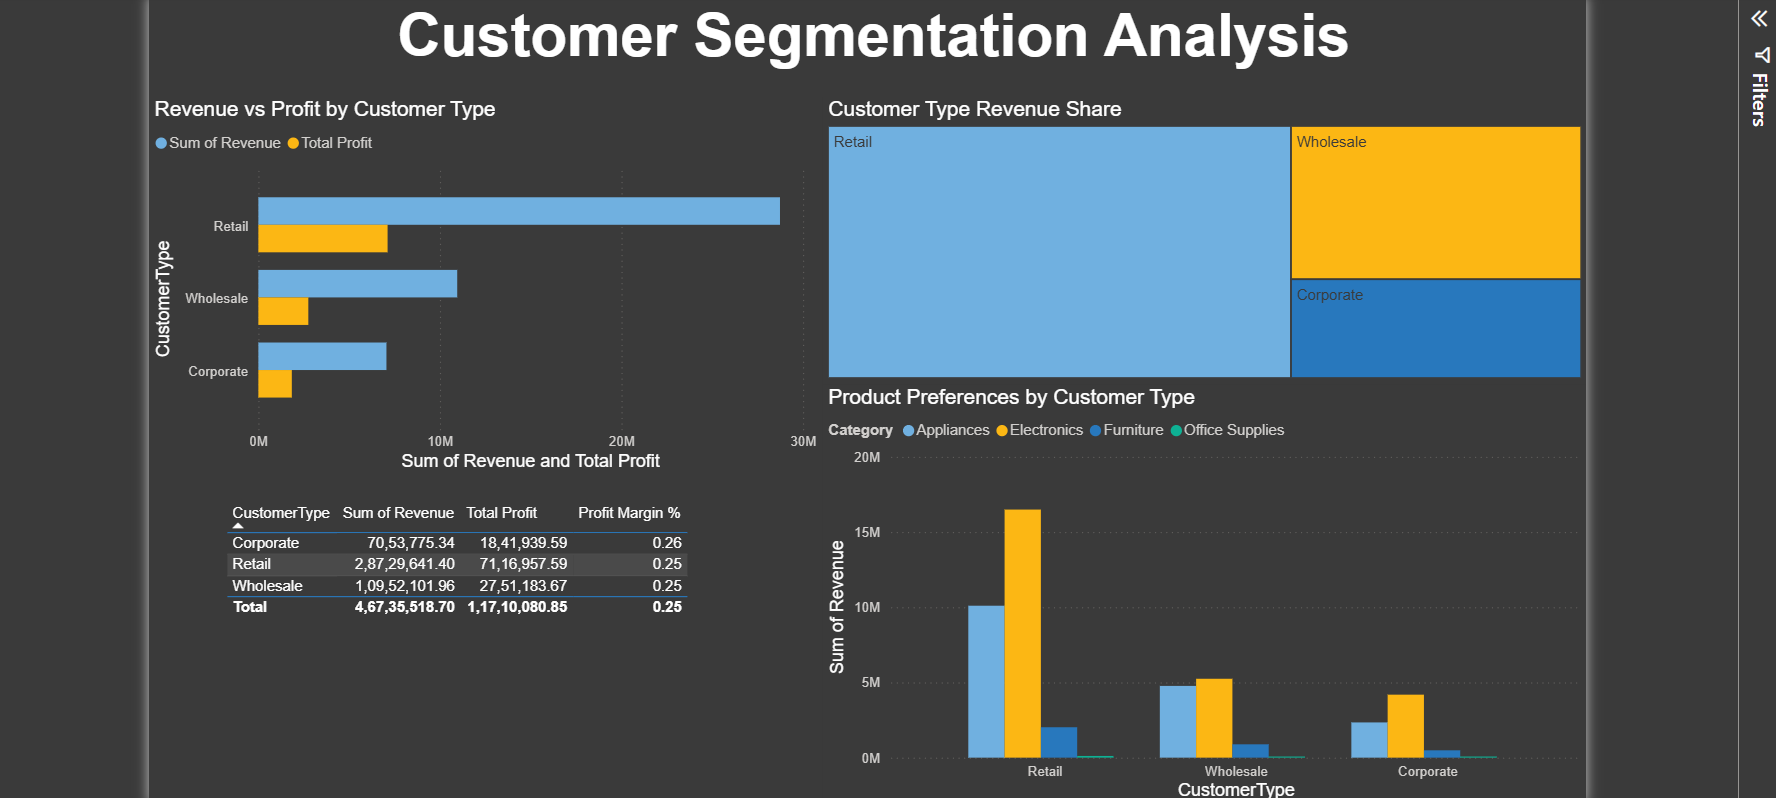

What the dashboard file says about the page in this screenshot:
{"tool":"powerbi","page":{"name":"Page 2","canvas":[1280,720],"ordinal":1},"visuals":[{"type":"textbox","box":[9.6,0,1270.7,90.6],"z":0},{"type":"clusteredBarChart","title":"Revenue vs Profit by Customer Type","fields":{"Category":["regional_sales_dataset.CustomerType"],"Y":["Sum(regional_sales_dataset.Revenue)","regional_sales_dataset.Total Profit"]},"box":[0,90.6,599.7,337.6],"z":1000},{"type":"tableEx","fields":{"Values":["regional_sales_dataset.CustomerType","Sum(regional_sales_dataset.Revenue)","regional_sales_dataset.Total Profit","regional_sales_dataset.Profit Margin %"]},"box":[63.1,446,503.6,175.6],"z":2000},{"type":"treemap","title":"Customer Type Revenue Share","fields":{"Group":["regional_sales_dataset.CustomerType"],"Values":["Sum(regional_sales_dataset.Revenue)"]},"box":[599.7,90.6,680.6,255.2],"z":3000},{"type":"clusteredColumnChart","title":"Product Preferences by Customer Type","fields":{"Category":["regional_sales_dataset.CustomerType"],"Series":["regional_sales_dataset.Category"],"Y":["Sum(regional_sales_dataset.Revenue)"]},"box":[599.7,345.8,680.6,374.6],"z":4000}]}

Visuals, with their boxes on the page's 1280x720 design canvas (x1, y1, x2, y2). These are canvas units, not pixel positions in the 1776x798 screenshot, which may show the page scaled, cropped or inside an application window:
textbox: bbox=[10, 0, 1280, 91]
"Revenue vs Profit by Customer Type" clusteredBarChart: bbox=[0, 91, 600, 428]
tableEx - regional_sales_dataset.CustomerType x Sum(regional_sales_dataset.Revenue): bbox=[63, 446, 567, 622]
"Customer Type Revenue Share" treemap: bbox=[600, 91, 1280, 346]
"Product Preferences by Customer Type" clusteredColumnChart: bbox=[600, 346, 1280, 720]
